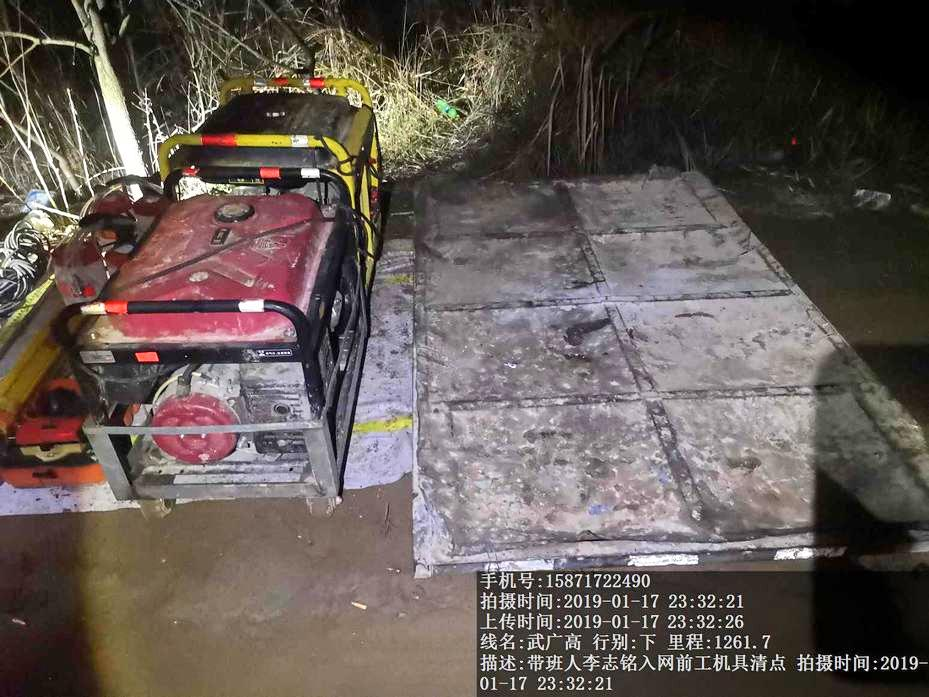DJ: (80, 165, 380, 524), (165, 71, 384, 173)
